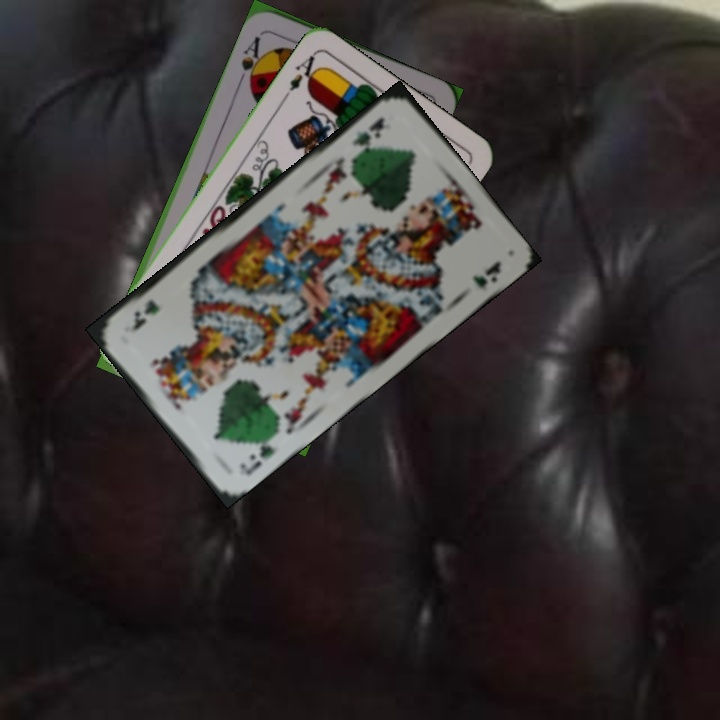EA: (285, 50, 323, 94)
GK: (235, 437, 279, 479), (348, 113, 388, 159)
SA: (237, 29, 268, 89)
